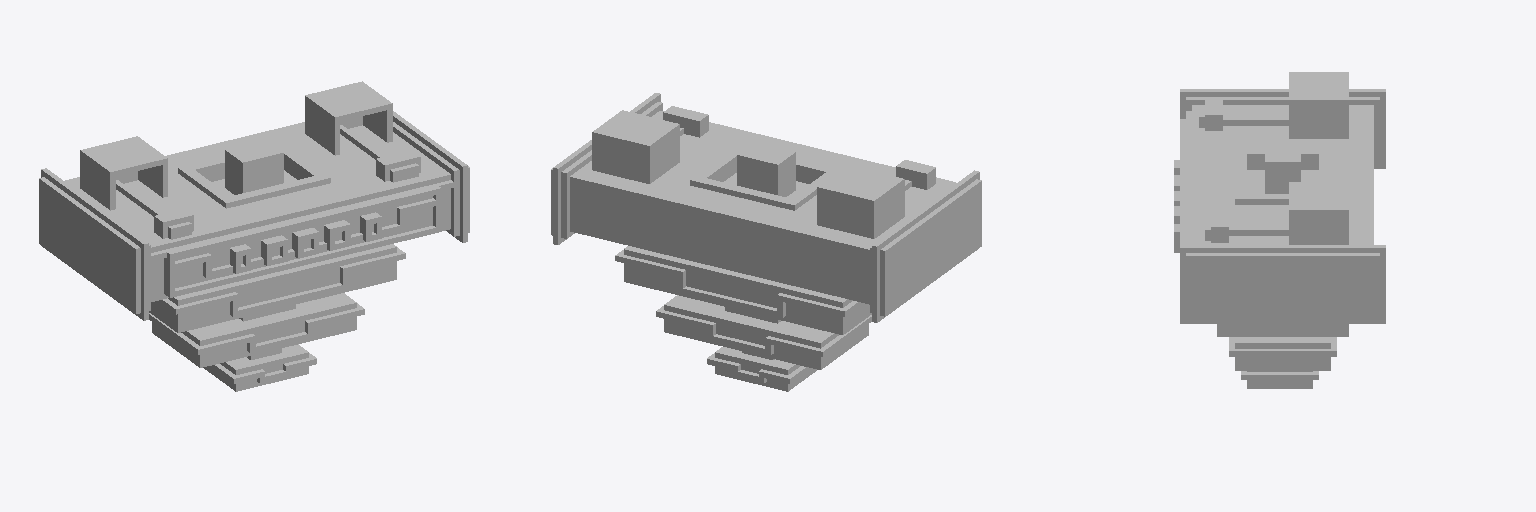
Rendered from probe droid body.obj.
The picture shows the model from 3 angles: view 1: azimuth 30°, elevation 25°; view 2: azimuth 150°, elevation 25°; view 3: azimuth 270°, elevation 25°; orthographic projection.
Visible parts, largest first — view 1: object 1; view 2: object 1; view 3: object 1.
Part boxes in pixels (x1,y1,x2,y2): object 1: (39,81,469,391); object 1: (551,93,981,391); object 1: (1174,72,1385,388).
Size of the model in its own units: 6.4 by 4.2 by 3.5.